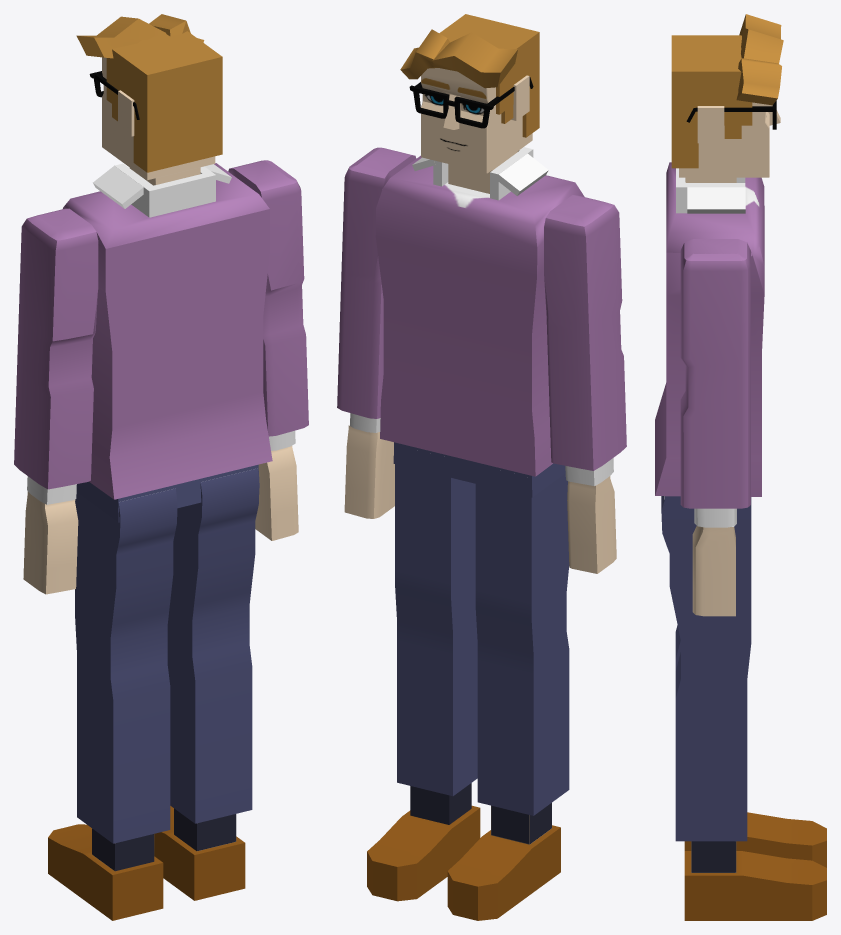
The model's file is theo.fbx.
3 views of the same model, side by side, from view 1: azimuth 30°, elevation 25°; view 2: azimuth 150°, elevation 25°; view 3: azimuth 270°, elevation 25° (orthographic).
Visible parts, largest first — view 1: pCube20; view 2: pCube20, pCube24; view 3: pCube20, pCube24.
Part boxes in pixels (<box>): pCube20: <box>14,14,308,920</box>; pCube20: <box>337,14,626,920</box>; pCube24: <box>409,76,533,128</box>; pCube20: <box>655,14,826,920</box>; pCube24: <box>686,100,776,129</box>.
Bounding box in the file's own units: 8.71 × 27.08 × 4.93.
Materials: 2 (1 with a texture image).
